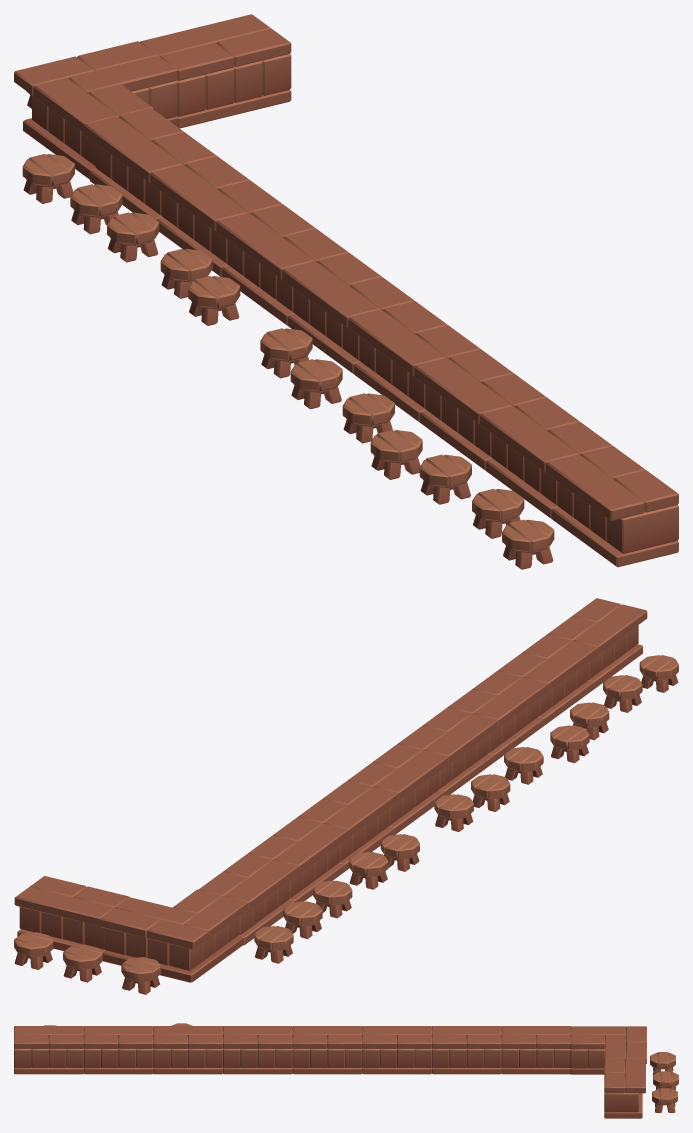
Rendered from Tavern_firstfloor_barStools.glb.
The picture shows the model from 3 angles, top to bottom: view 1: azimuth 30°, elevation 25°; view 2: azimuth 150°, elevation 25°; view 3: azimuth 270°, elevation 25°; orthographic projection. The views are drawn at different scales.
Visible parts, largest first — view 1: bar_straight_A, bar_outercorner, bar_straight_A.001, stool_round.015, stool_round.010, stool_round.013, stool_round.007, stool_round, stool_round.008, stool_round.017, stool_round.011, stool_round.016 (+3 smaller); view 2: bar_straight_A, bar_outercorner, bar_straight_A.001, stool_round.019, stool_round.017, stool_round.008, stool_round.018, stool_round.009, stool_round.006, stool_round.011, stool_round.014, stool_round.020 (+6 smaller); view 3: bar_straight_A, bar_outercorner, bar_straight_A.001, stool_round.018, stool_round.020, stool_round.019.
Part boxes in pixels (x1,y1,x2,y2): bar_straight_A: (84, 108, 678, 567); bar_outercorner: (14, 41, 176, 179); bar_straight_A.001: (140, 14, 291, 128); stool_round.015: (107, 212, 159, 262); stool_round.010: (290, 359, 342, 409); stool_round.013: (188, 276, 240, 325); stool_round.007: (419, 454, 471, 504); stool_round: (502, 519, 554, 569); stool_round.008: (370, 430, 422, 479); stool_round.017: (22, 154, 74, 203); stool_round.011: (342, 393, 394, 443); stool_round.016: (70, 184, 122, 234); bar_straight_A: (199, 598, 647, 945); bar_outercorner: (99, 889, 247, 982); bar_straight_A.001: (14, 876, 128, 952); stool_round.019: (63, 944, 102, 982); stool_round.017: (254, 926, 293, 963); stool_round.008: (550, 725, 589, 763); stool_round.018: (14, 932, 53, 969); stool_round.009: (434, 794, 473, 831); stool_round.006: (603, 675, 642, 712); stool_round.011: (504, 747, 543, 784); stool_round.014: (349, 852, 388, 889); stool_round.020: (121, 957, 160, 994); bar_straight_A: (14, 1026, 570, 1074); bar_outercorner: (570, 1026, 646, 1074); bar_straight_A.001: (604, 1058, 645, 1118); stool_round.018: (652, 1088, 677, 1112); stool_round.020: (650, 1052, 675, 1074); stool_round.019: (653, 1071, 678, 1090).
Size of what is drawn, in the model's own units: 5.55 by 1.05 by 19.09.
1 material, 1 textured.
